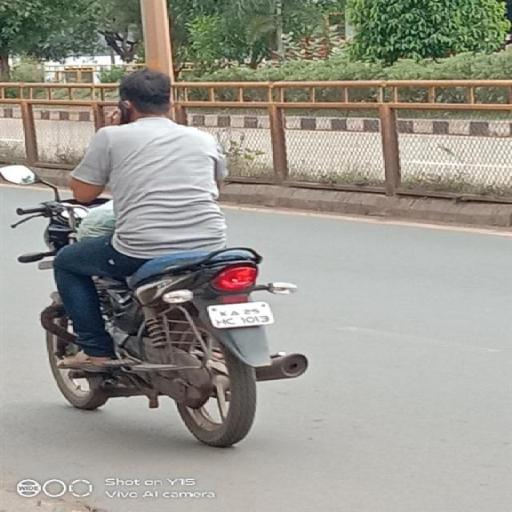using mobile: (103, 94, 142, 124)
